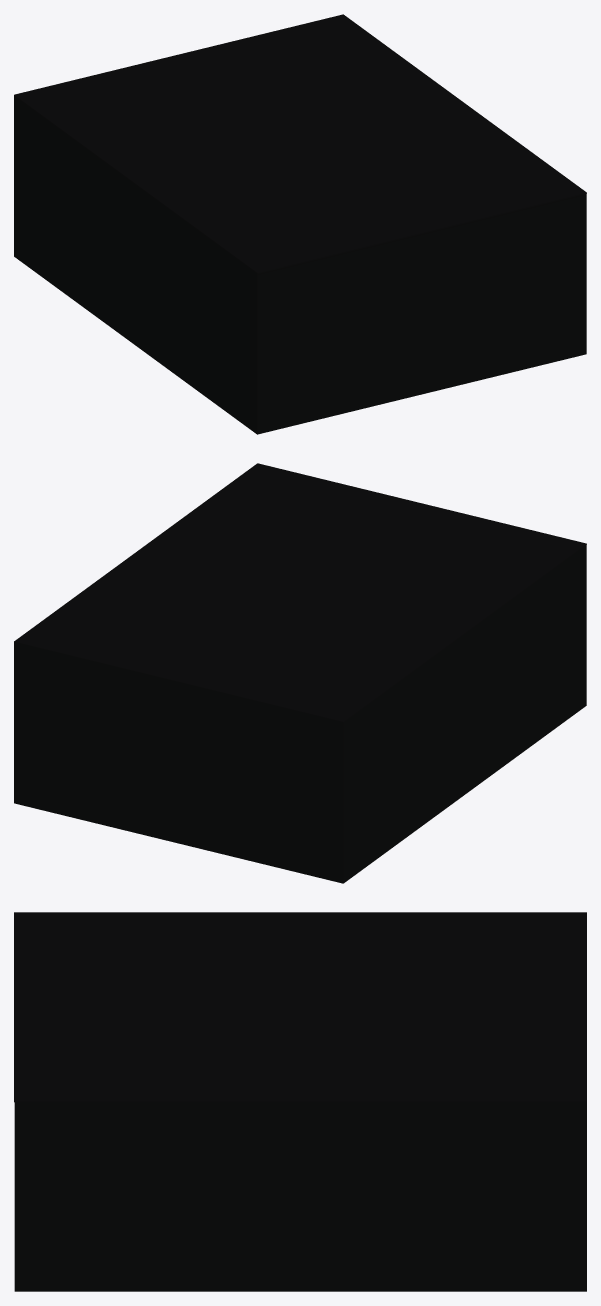
Rendered from zone1.glb.
The picture shows the model from 3 angles, top to bottom: view 1: azimuth 30°, elevation 25°; view 2: azimuth 150°, elevation 25°; view 3: azimuth 270°, elevation 25°; orthographic projection. The views are drawn at different scales.
Visible parts, largest first — view 1: Rectangle003, Box002; view 2: Rectangle003, Box002; view 3: Box002, Rectangle003, Box001.
Part boxes in pixels (left/top/right/bottom): Rectangle003: left=14, top=96, right=586, bottom=434; Box002: left=14, top=14, right=586, bottom=273; Rectangle003: left=14, top=545, right=586, bottom=883; Box002: left=14, top=463, right=586, bottom=722; Box002: left=14, top=912, right=586, bottom=1102; Rectangle003: left=14, top=1102, right=586, bottom=1291; Box001: left=15, top=1290, right=586, bottom=1291.
Bounding box in the file's own units: 9.14 × 4.29 × 11.71.
Materials: 15 (8 with a texture image).
